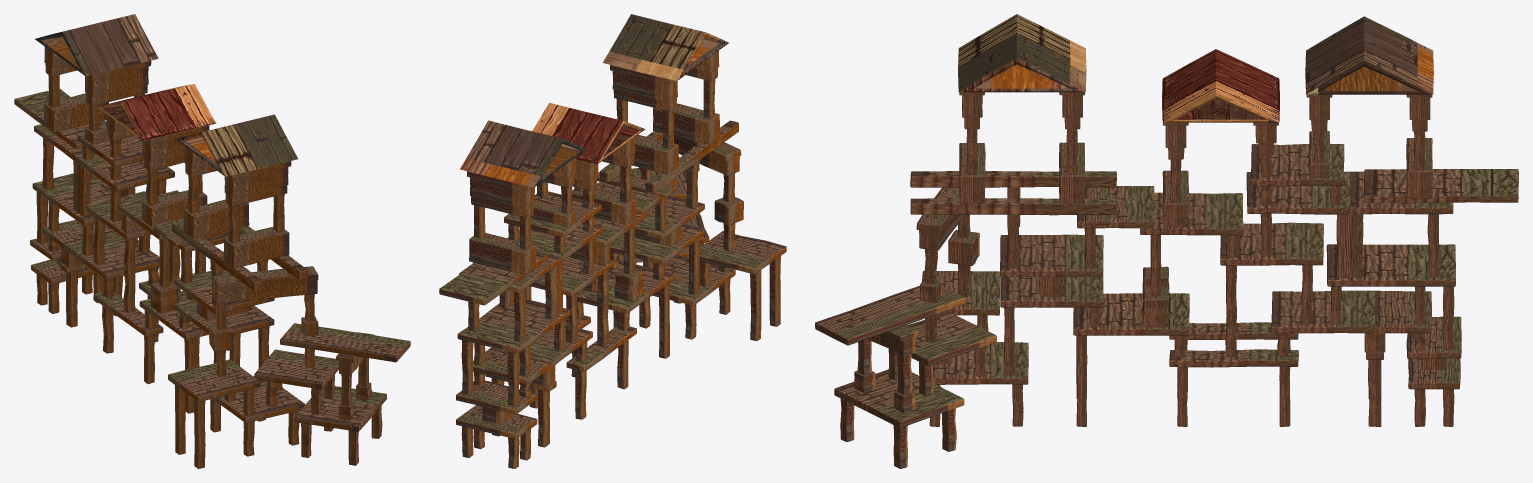
File: M8_Dynamic1Wood_2kg.fbx
3 renders of one model, left to right at view 1: azimuth 30°, elevation 25°; view 2: azimuth 150°, elevation 25°; view 3: azimuth 270°, elevation 25°, orthographic. The views are drawn at different scales.
Visible parts, largest first — view 1: D1Box199, D1Box114, D1Box136, D1Box158, D1Box166, D1Box165, D1Box179, D1Box198, D1Box67, D1Box62, D1Box88, D1Box203 (+43 smaller); view 2: D1Box114, D1Box199, D1Box136, D1Box88, D1Box166, D1Box148, D1Box118, D1Box198, D1Box145, D1Box62, D1Box56, D1Box175 (+50 smaller); view 3: D1Box199, D1Box114, D1Box136, D1Box148, D1Box88, D1Box158, D1Box67, D1Box175, D1Box95, D1Box145, D1Box179, D1Box170 (+29 smaller).
Boxes of the visible parts, x1,y1,x2,y2 form: D1Box199: (174, 114, 297, 176); D1Box114: (35, 14, 158, 76); D1Box136: (97, 84, 216, 141); D1Box158: (280, 323, 410, 362); D1Box166: (168, 359, 260, 402); D1Box165: (254, 349, 338, 389); D1Box179: (295, 386, 386, 431); D1Box198: (223, 227, 289, 268); D1Box67: (65, 232, 159, 279); D1Box62: (212, 376, 304, 423); D1Box88: (32, 173, 110, 225); D1Box203: (183, 199, 249, 238); D1Box114: (460, 120, 586, 187); D1Box199: (602, 14, 728, 80); D1Box136: (532, 103, 645, 164); D1Box88: (457, 299, 570, 353); D1Box166: (699, 231, 786, 274); D1Box148: (439, 251, 548, 305); D1Box118: (469, 233, 536, 274); D1Box198: (653, 103, 720, 144); D1Box145: (577, 260, 674, 313); D1Box62: (652, 255, 735, 305); D1Box56: (610, 224, 704, 264); D1Box175: (634, 195, 704, 239); D1Box199: (958, 14, 1086, 92); D1Box114: (1305, 16, 1433, 94); D1Box136: (1162, 49, 1279, 122); D1Box148: (1363, 169, 1518, 203); D1Box88: (1326, 244, 1455, 286); D1Box158: (815, 285, 965, 345); D1Box67: (1271, 290, 1374, 333); D1Box175: (1000, 234, 1103, 277); D1Box95: (1220, 222, 1323, 265); D1Box145: (1073, 293, 1189, 335); D1Box179: (834, 369, 964, 427); D1Box170: (910, 198, 1116, 215).
Size of what is drawn, in the model's own units: 20.32 by 32.18 by 54.64.
